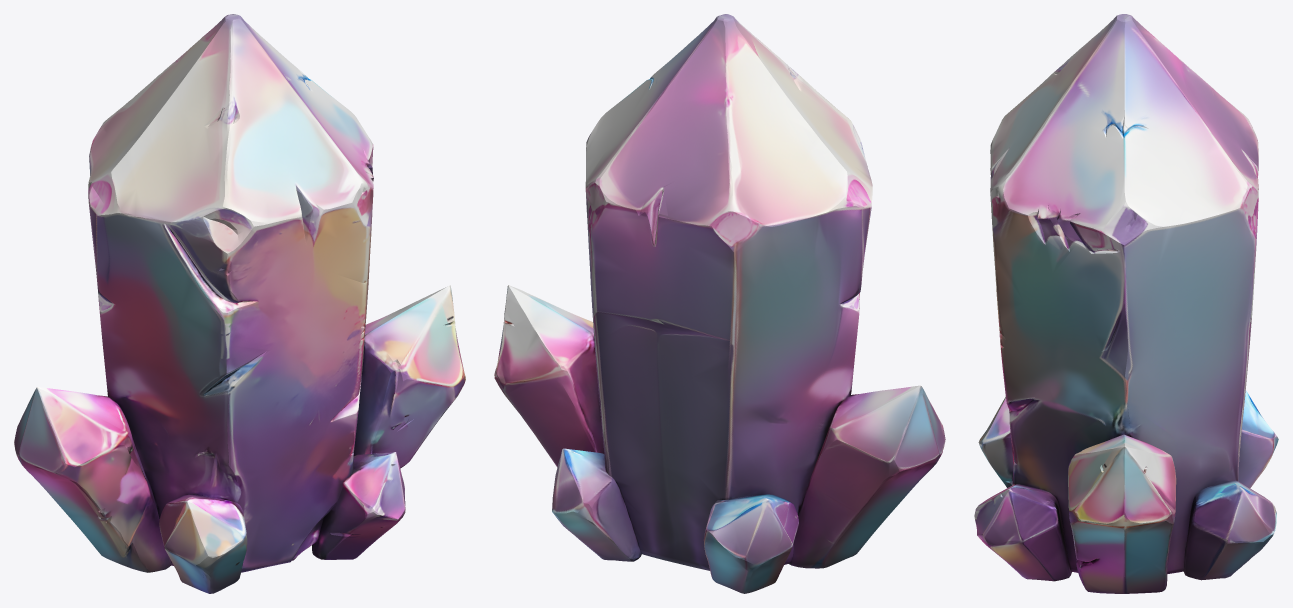
The model's file is crystal_pbr.glb.
3 views of the same model, side by side, from view 1: azimuth 30°, elevation 25°; view 2: azimuth 150°, elevation 25°; view 3: azimuth 270°, elevation 25° (orthographic).
Visible parts, largest first — view 1: model; view 2: model; view 3: model.
Part boxes in pixels (x1,y1,x2,y2): model: (14,14,465,593); model: (494,14,945,593); model: (974,14,1278,593).
Bounding box in the file's own units: 1.63 × 1.85 × 0.9675.
1 material, 1 textured.
